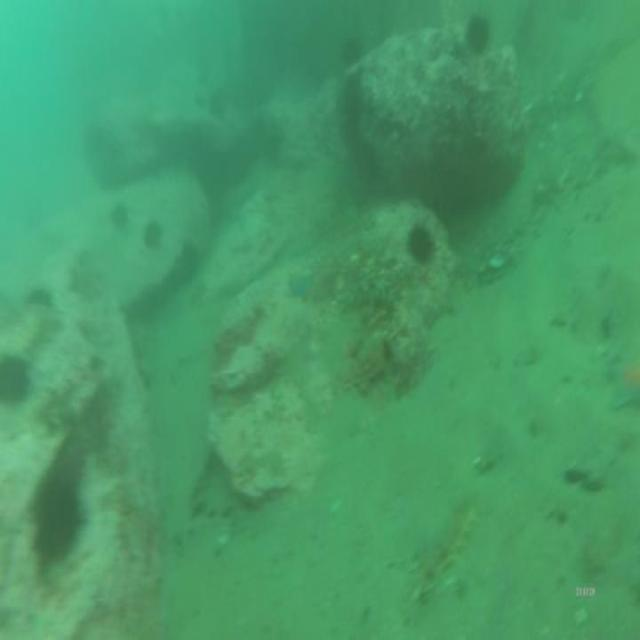echinus: (25, 463, 92, 575), (0, 347, 36, 401), (407, 220, 439, 273), (465, 11, 493, 62), (140, 215, 168, 257), (109, 199, 135, 236)
holothurian: (404, 482, 484, 604)
starfish: (605, 343, 640, 420), (287, 259, 317, 311)
